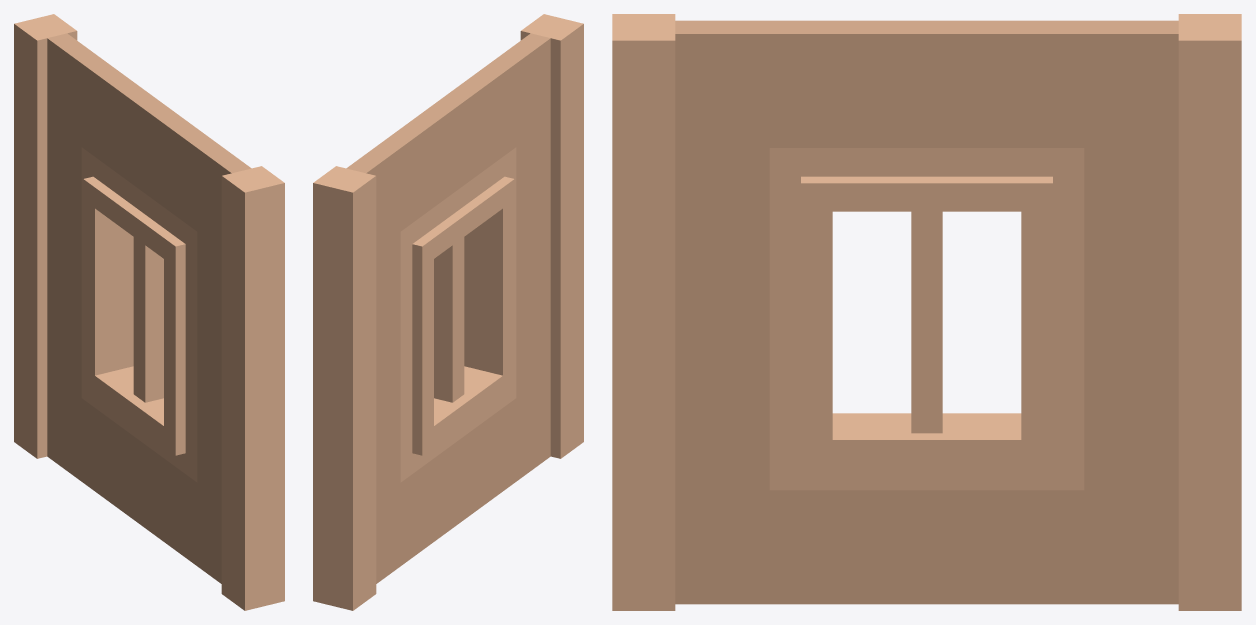
File: wallWoodWindowShutters.glb
The picture shows the model from 3 angles, left to right: view 1: azimuth 30°, elevation 25°; view 2: azimuth 150°, elevation 25°; view 3: azimuth 270°, elevation 25°; orthographic projection. The views are drawn at different scales.
Visible parts, largest first — view 1: wallWoodWindowShutters; view 2: wallWoodWindowShutters; view 3: wallWoodWindowShutters.
Part boxes in pixels (bbox=[...]): wallWoodWindowShutters: bbox=[14, 14, 284, 610]; wallWoodWindowShutters: bbox=[313, 14, 583, 610]; wallWoodWindowShutters: bbox=[612, 14, 1241, 610].
Size of the model in its own units: 0.1 by 1 by 1.
